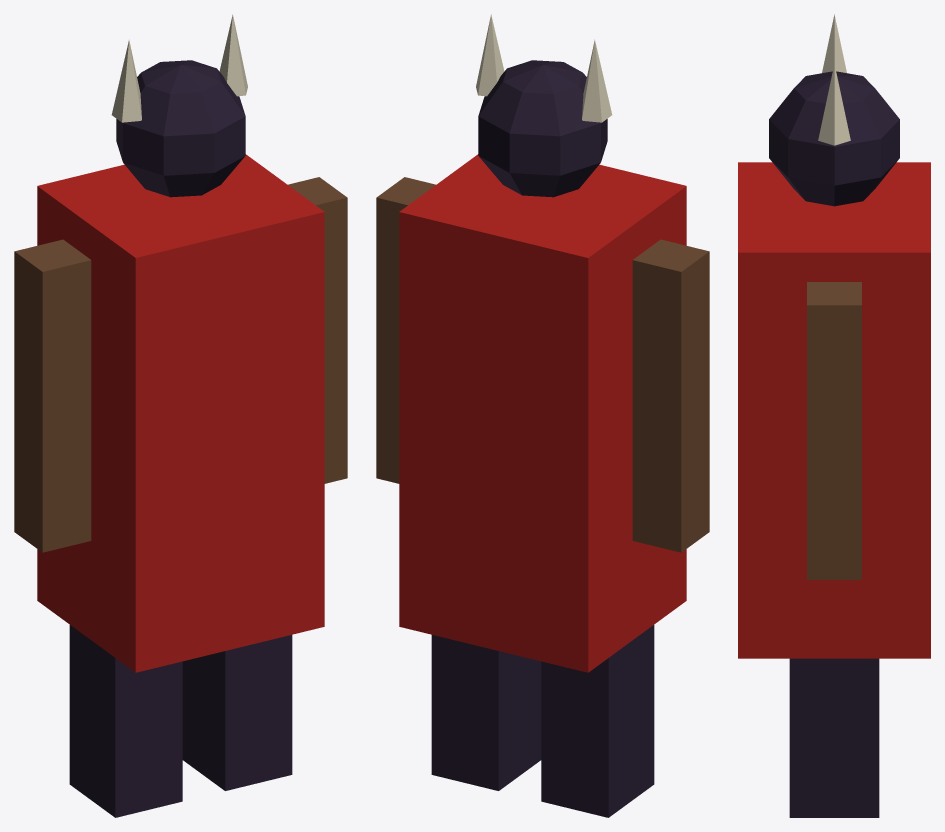
The model's file is brute.obj.
3 renders of one model, left to right at view 1: azimuth 30°, elevation 25°; view 2: azimuth 150°, elevation 25°; view 3: azimuth 270°, elevation 25°, orthographic. The views are drawn at different scales.
Parts seen in each view (by area): view 1: brute_torso, brute_arm_l, brute_leg_l, brute_leg_r, brute_head, brute_arm_r, brute_horn_l, brute_horn_r; view 2: brute_torso, brute_arm_l, brute_leg_l, brute_leg_r, brute_head, brute_arm_r, brute_horn_l, brute_horn_r; view 3: brute_torso, brute_arm_r, brute_leg_r, brute_head, brute_horn_r, brute_horn_l.
Boxes of the visible parts, left/top/right/bottom form: brute_torso: left=37, top=154, right=324, bottom=672; brute_arm_l: left=14, top=239, right=91, bottom=552; brute_leg_l: left=69, top=625, right=182, bottom=817; brute_leg_r: left=182, top=635, right=292, bottom=790; brute_head: left=116, top=60, right=245, bottom=197; brute_arm_r: left=288, top=177, right=347, bottom=483; brute_horn_l: left=111, top=39, right=141, bottom=122; brute_horn_r: left=219, top=14, right=247, bottom=96; brute_torso: left=399, top=154, right=686, bottom=672; brute_arm_l: left=632, top=239, right=709, bottom=552; brute_leg_l: left=541, top=625, right=654, bottom=817; brute_leg_r: left=431, top=635, right=541, bottom=790; brute_head: left=478, top=60, right=607, bottom=197; brute_arm_r: left=376, top=177, right=435, bottom=483; brute_horn_l: left=582, top=39, right=612, bottom=122; brute_horn_r: left=476, top=14, right=504, bottom=96; brute_torso: left=738, top=162, right=930, bottom=658; brute_arm_r: left=807, top=282, right=861, bottom=579; brute_leg_r: left=789, top=658, right=879, bottom=817; brute_head: left=769, top=71, right=899, bottom=206; brute_horn_r: left=818, top=64, right=850, bottom=145; brute_horn_l: left=822, top=14, right=846, bottom=72.
Size of the model in its own units: 1 by 2.36 by 0.56.
